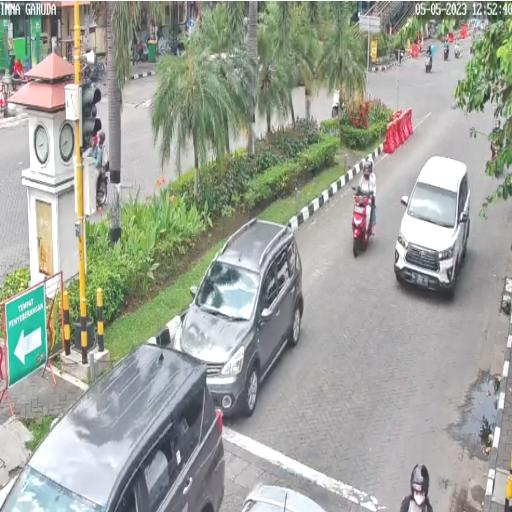mobil: (0, 343, 231, 512), (173, 222, 305, 416), (395, 154, 473, 298)
motor: (351, 185, 377, 258)
